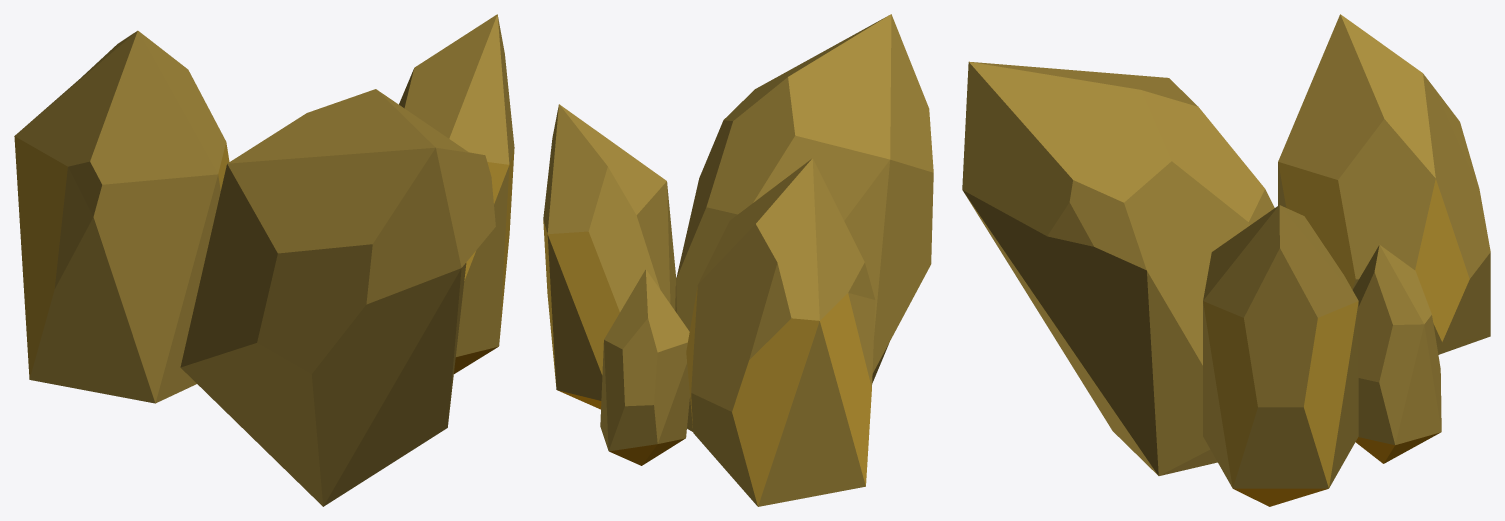
Rendered from ClayRock2.glb.
3 renders of one model, left to right at view 1: azimuth 30°, elevation 25°; view 2: azimuth 150°, elevation 25°; view 3: azimuth 270°, elevation 25°, orthographic. The views are drawn at different scales.
Visible parts, largest first — view 1: ClayRock2; view 2: ClayRock2; view 3: ClayRock2.
Boxes of the visible parts, x1,y1,x2,y2 form: ClayRock2: (14, 14, 514, 506); ClayRock2: (543, 14, 933, 506); ClayRock2: (962, 14, 1490, 506).
Bounding box in the file's own units: 0.8324 × 0.7668 × 0.95.
